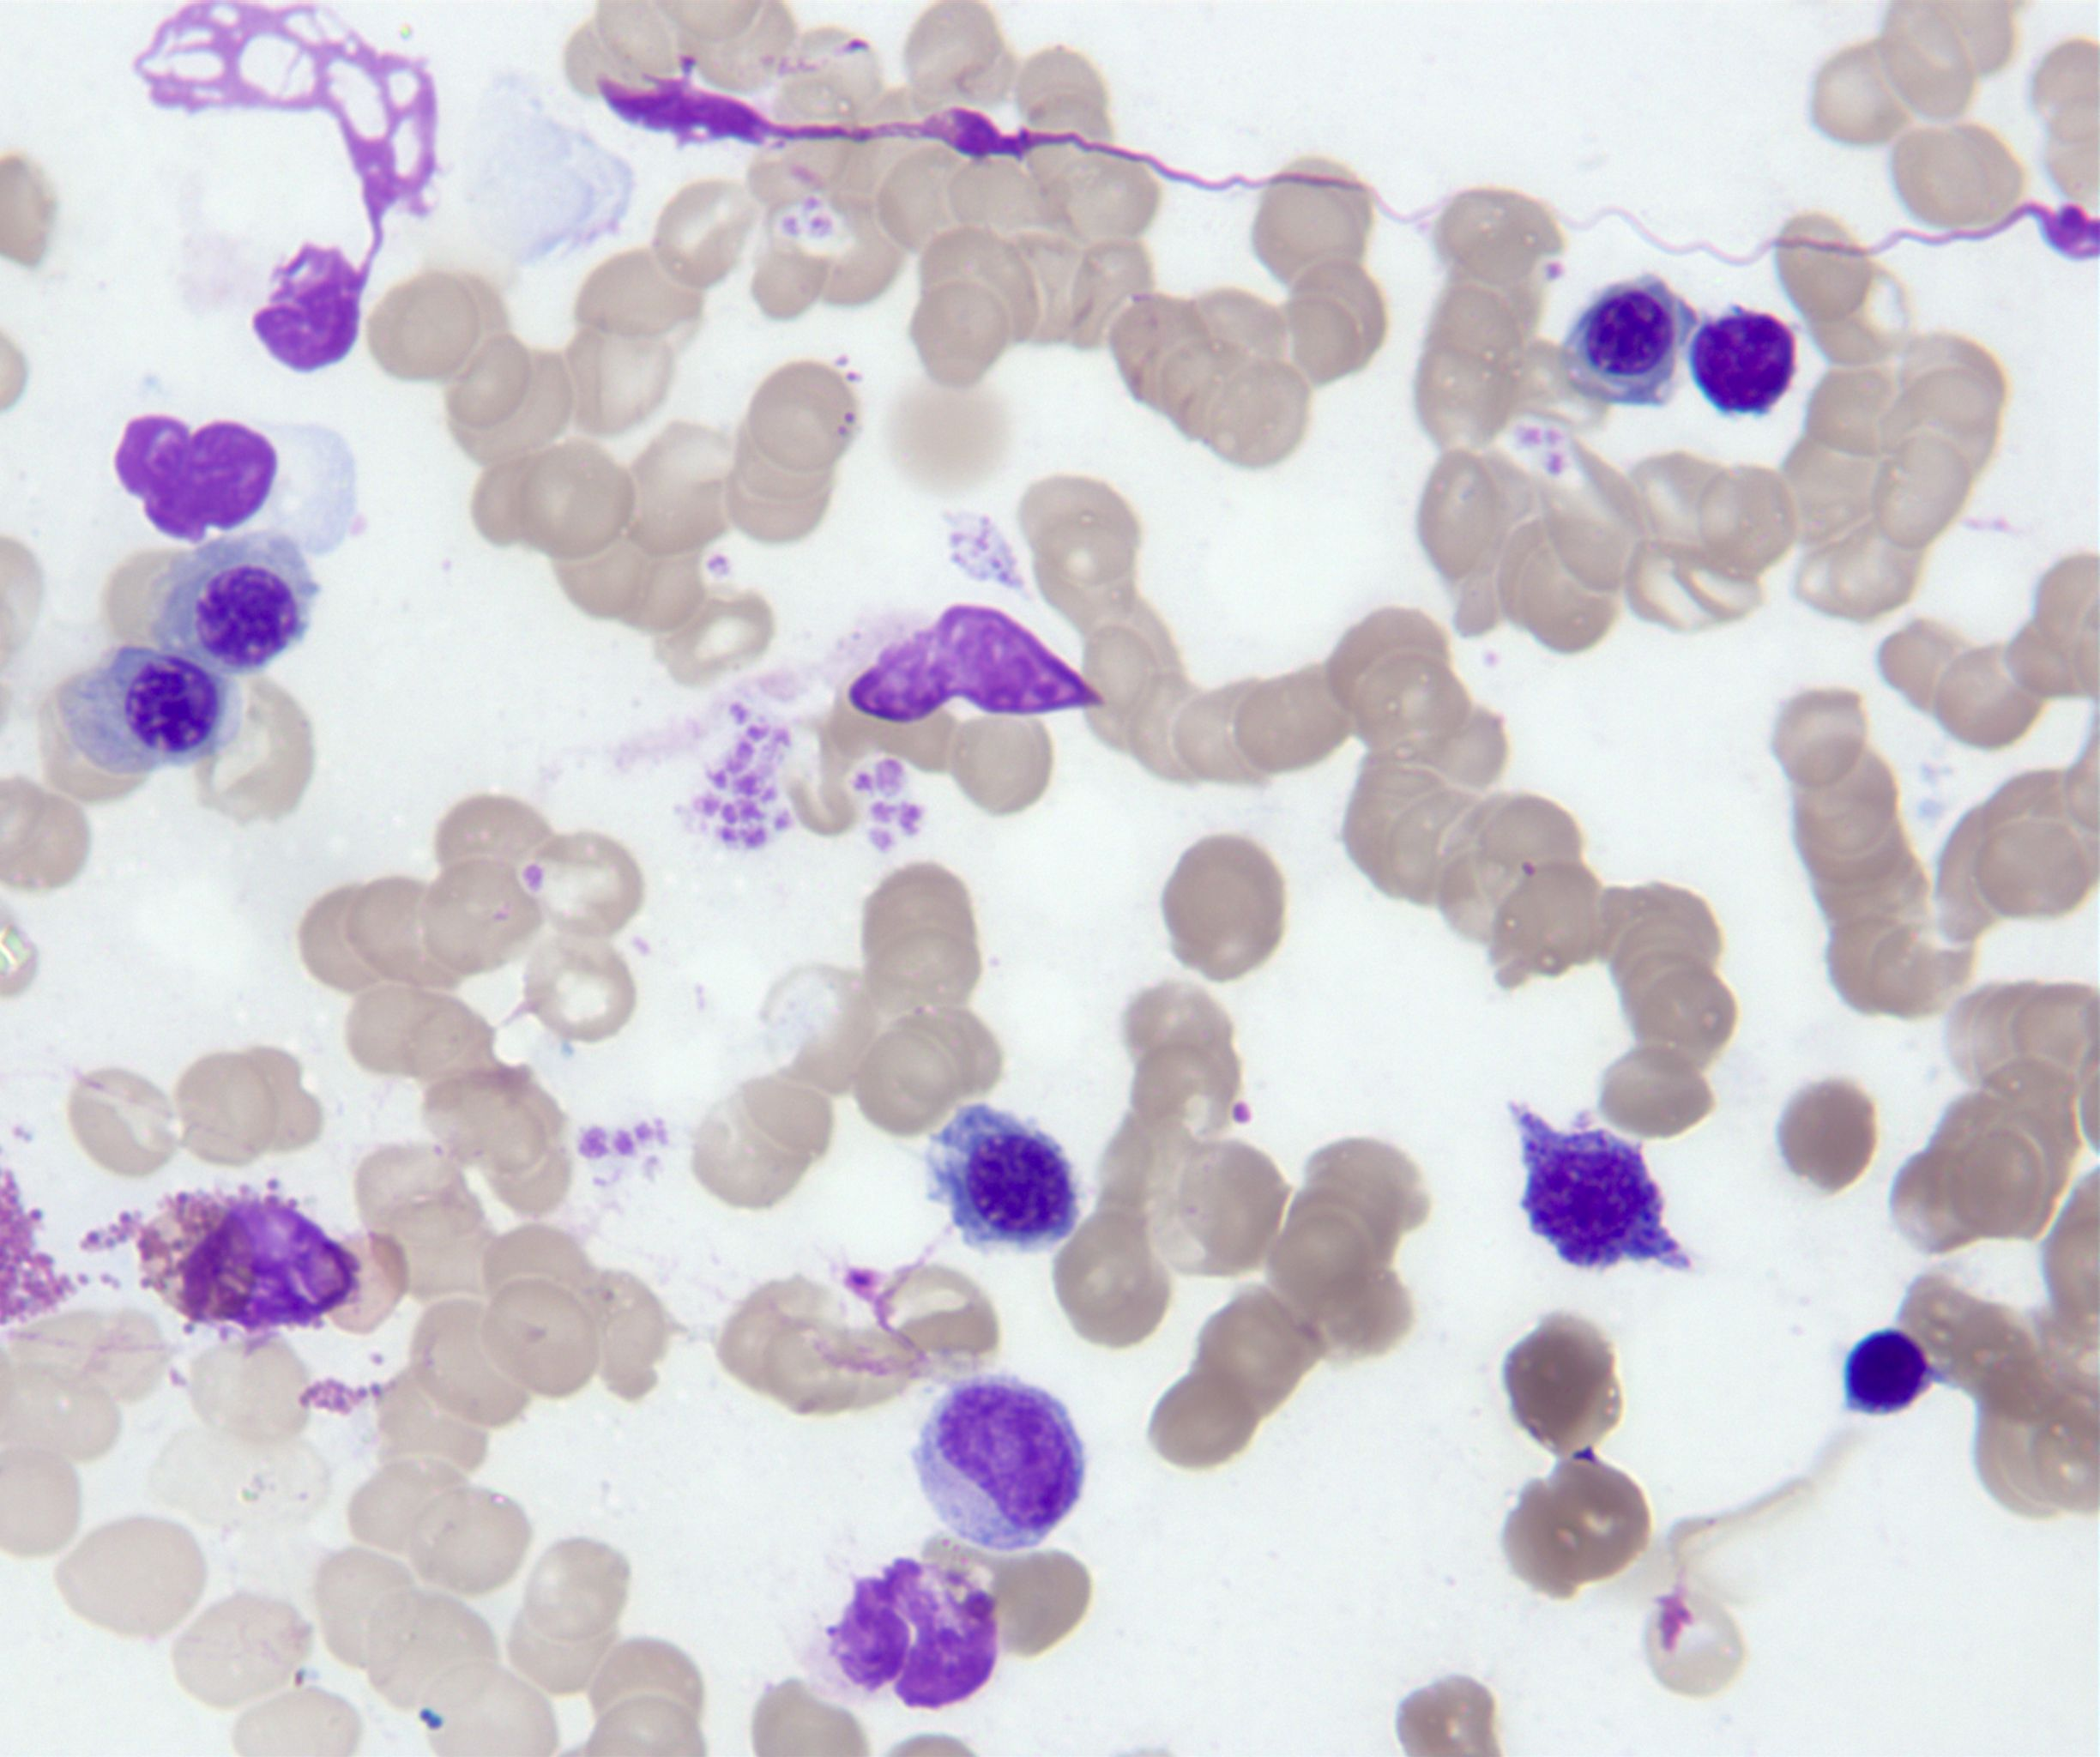24: (152, 530, 319, 679), (54, 646, 241, 776), (923, 1104, 1080, 1256), (1558, 269, 1697, 407)
3: (912, 1371, 1087, 1553)
32: (1688, 302, 1798, 414), (1845, 1330, 1943, 1415)
x: (1507, 1097, 1692, 1272), (136, 1195, 363, 1335), (801, 1556, 999, 1710), (849, 607, 1102, 721), (115, 415, 276, 543)
